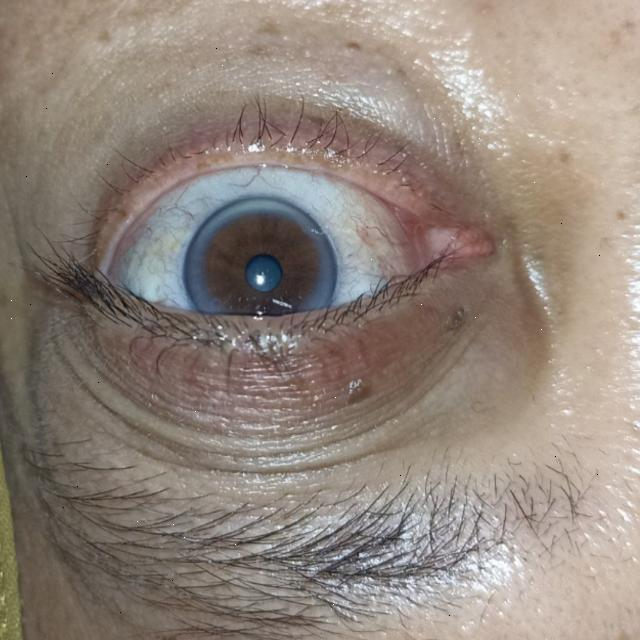Cataract: (184, 192, 339, 349)
